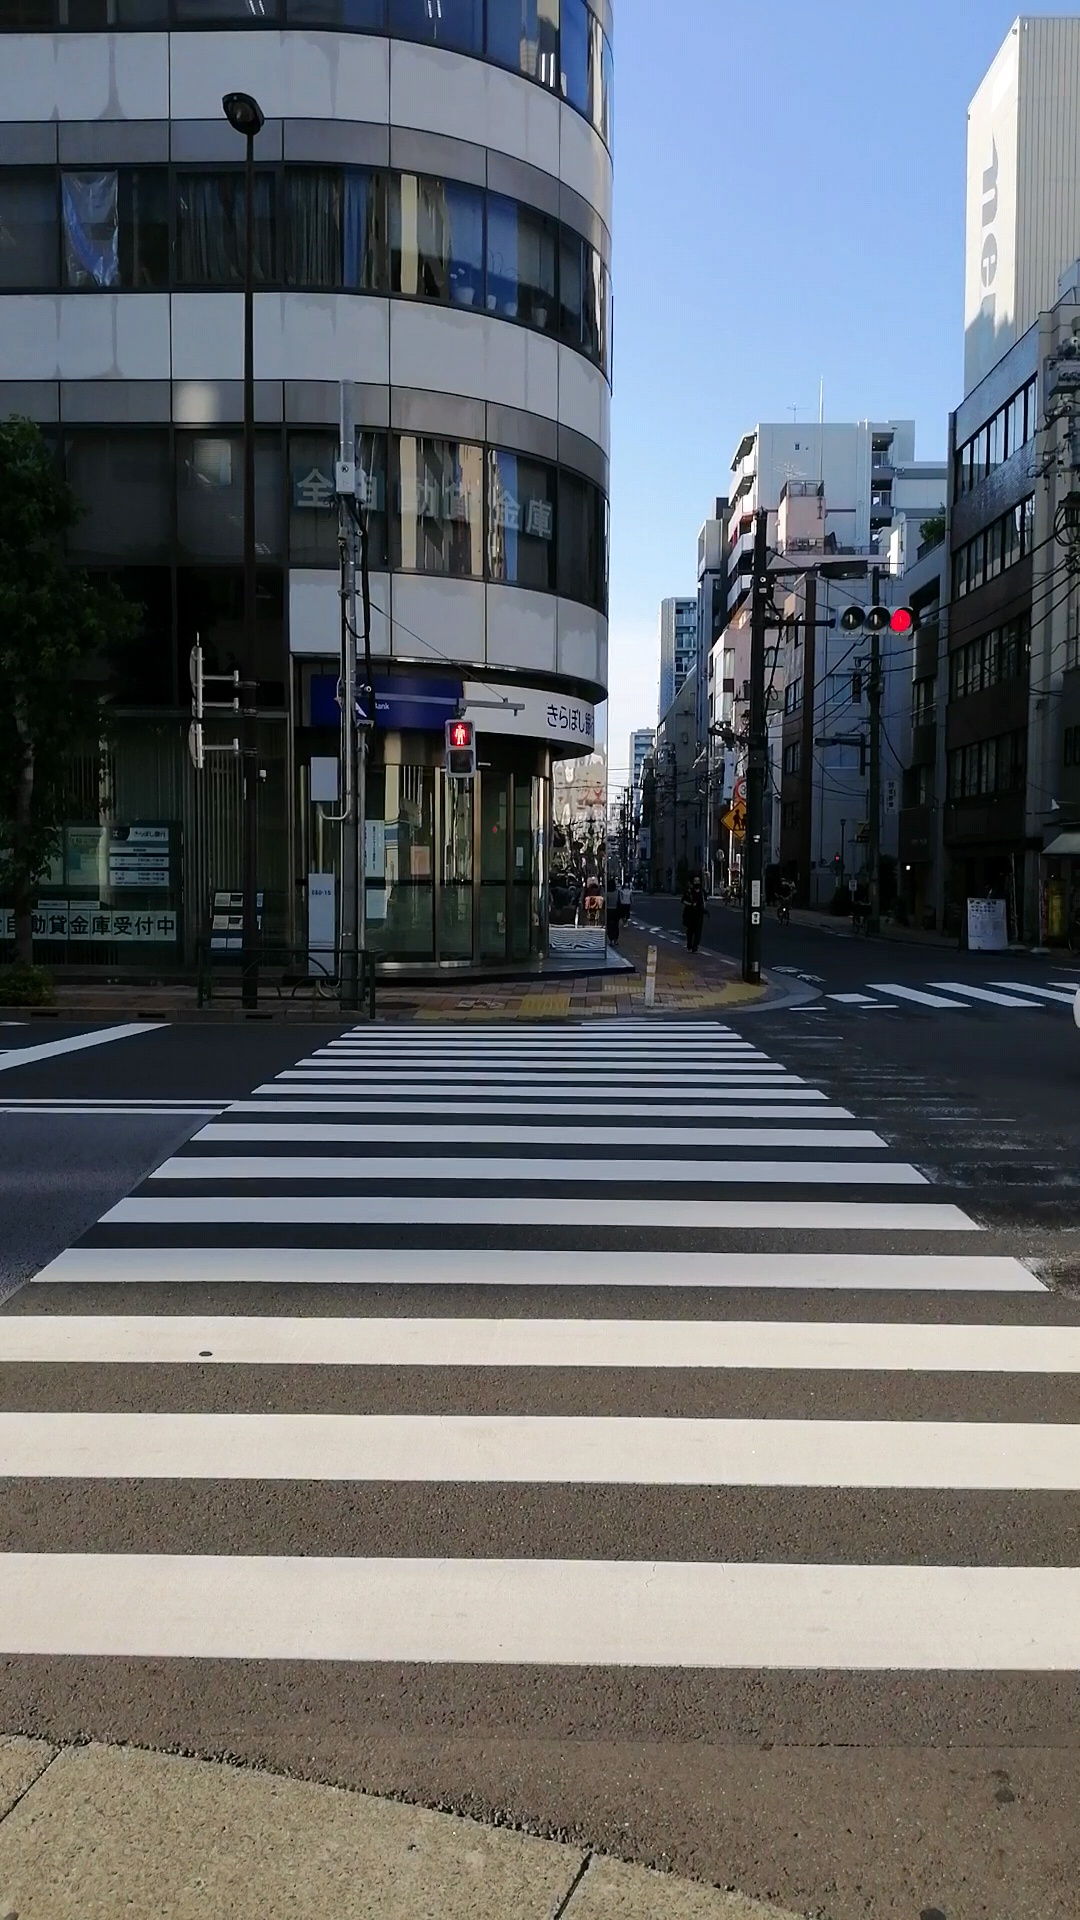red: (444, 716, 477, 778)
